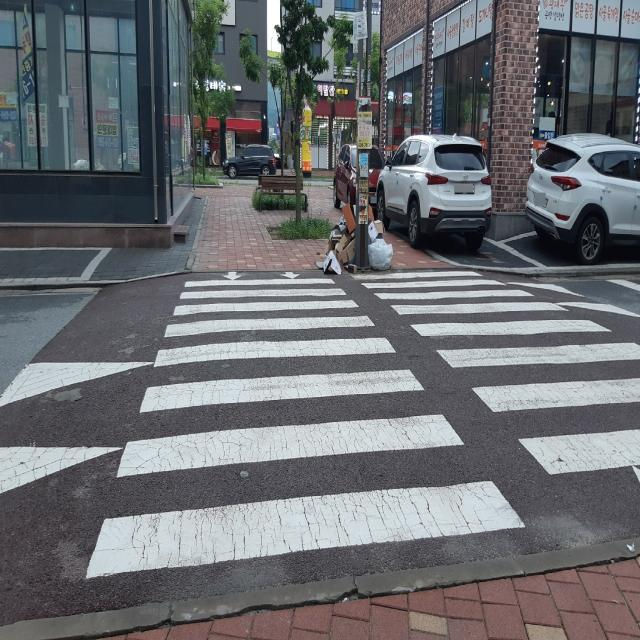횡단보도: (84, 266, 640, 580)
